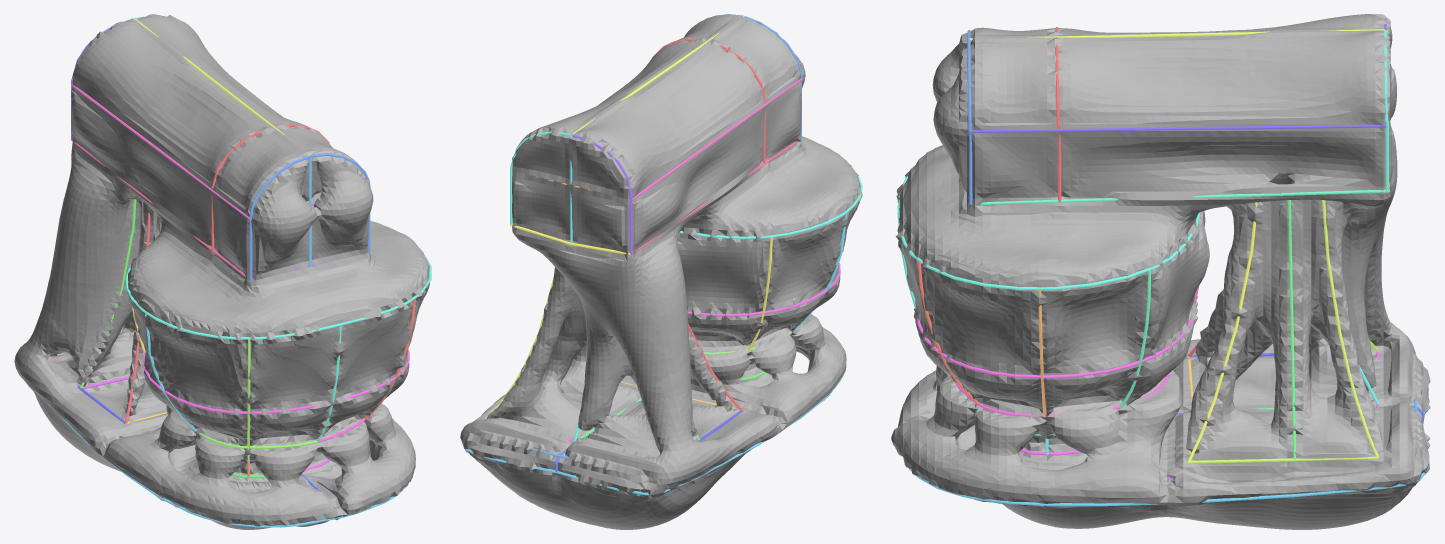
The model's file is t2f_blender.gltf.
3 renders of one model, left to right at view 1: azimuth 30°, elevation 25°; view 2: azimuth 150°, elevation 25°; view 3: azimuth 270°, elevation 25°, orthographic. The views are drawn at different scales.
Size of the model in its own units: 0.4703 by 0.6866 by 0.6859.
